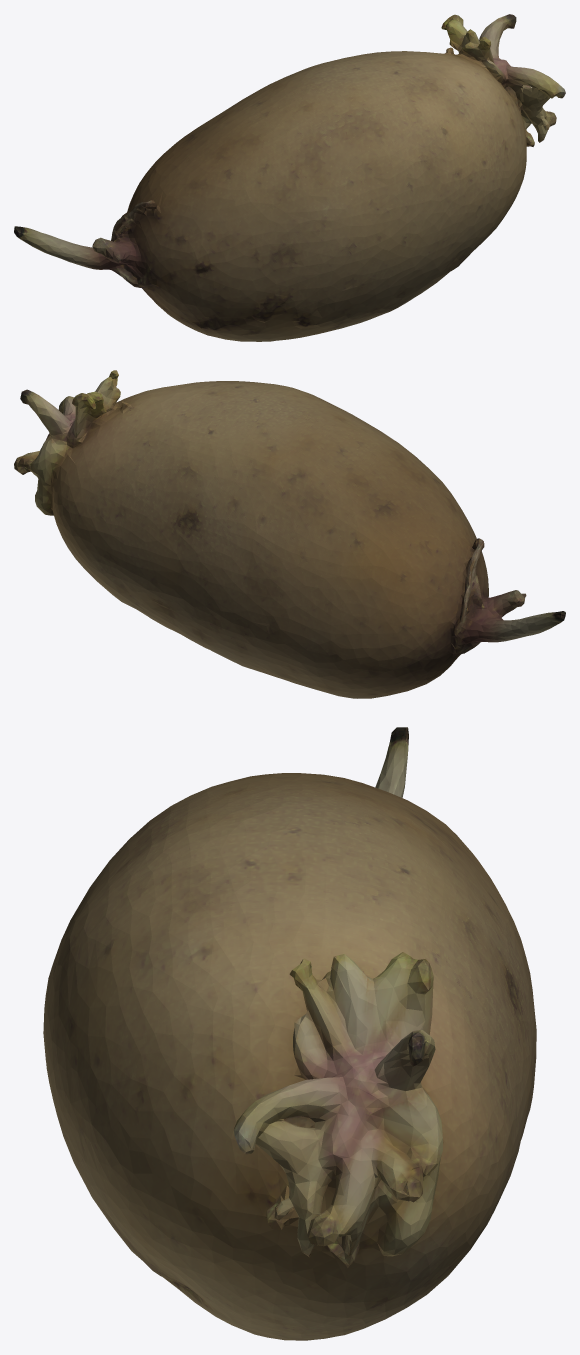
The model's file is sample(3).glb.
The picture shows the model from 3 angles, top to bottom: view 1: azimuth 30°, elevation 25°; view 2: azimuth 150°, elevation 25°; view 3: azimuth 270°, elevation 25°; orthographic projection. The views are drawn at different scales.
Parts seen in each view (by area): view 1: world; view 2: world; view 3: world.
Boxes of the visible parts, x1,y1,x2,y2 form: world: (14, 14, 565, 341); world: (14, 370, 565, 698); world: (43, 727, 536, 1340).
Size of the model in its own units: 0.9008 by 0.4047 by 0.3681.
Materials: 1 (1 with a texture image).
